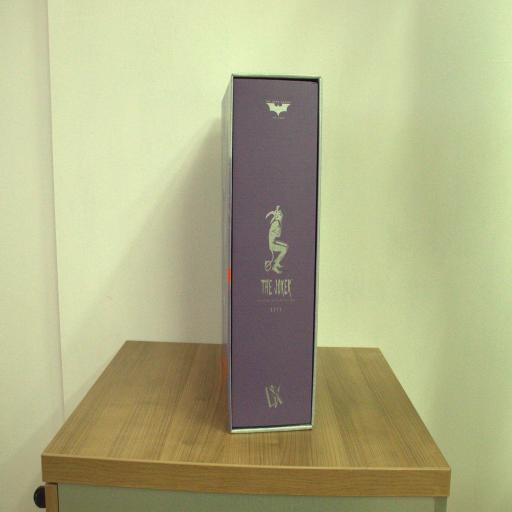Joker: (219, 72, 321, 434)
